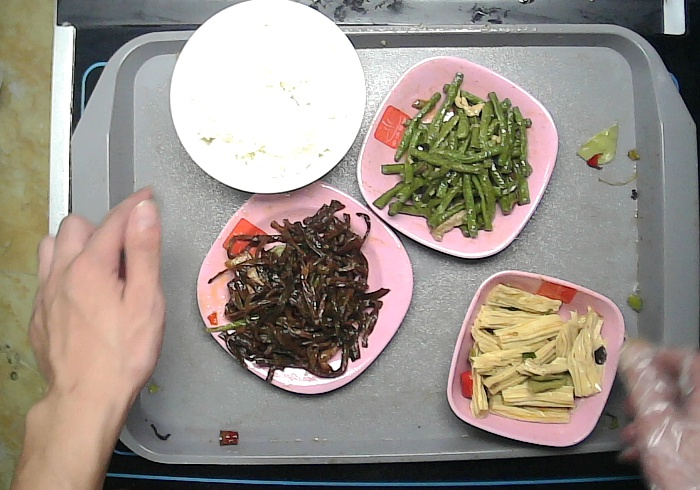SHKJ-Fan_Wan: (170, 1, 366, 194)
SHKJ-Fen_Se_Cai_Die: (357, 54, 559, 258)
SHKJ-Fen_Se_Si_Fang_Cai_Die: (196, 178, 413, 393)
SHKJ-Fen_Se_Xiao_Fang_Die: (446, 270, 625, 447)
